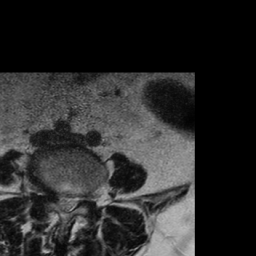CCS_stenosis: (64, 187, 71, 219)
LFS_stenosis: (78, 185, 87, 210)
LLS_normal: (71, 188, 78, 215)
RFS_severe_stenosis: (49, 183, 57, 209)
RLS_normal: (57, 188, 64, 214)
